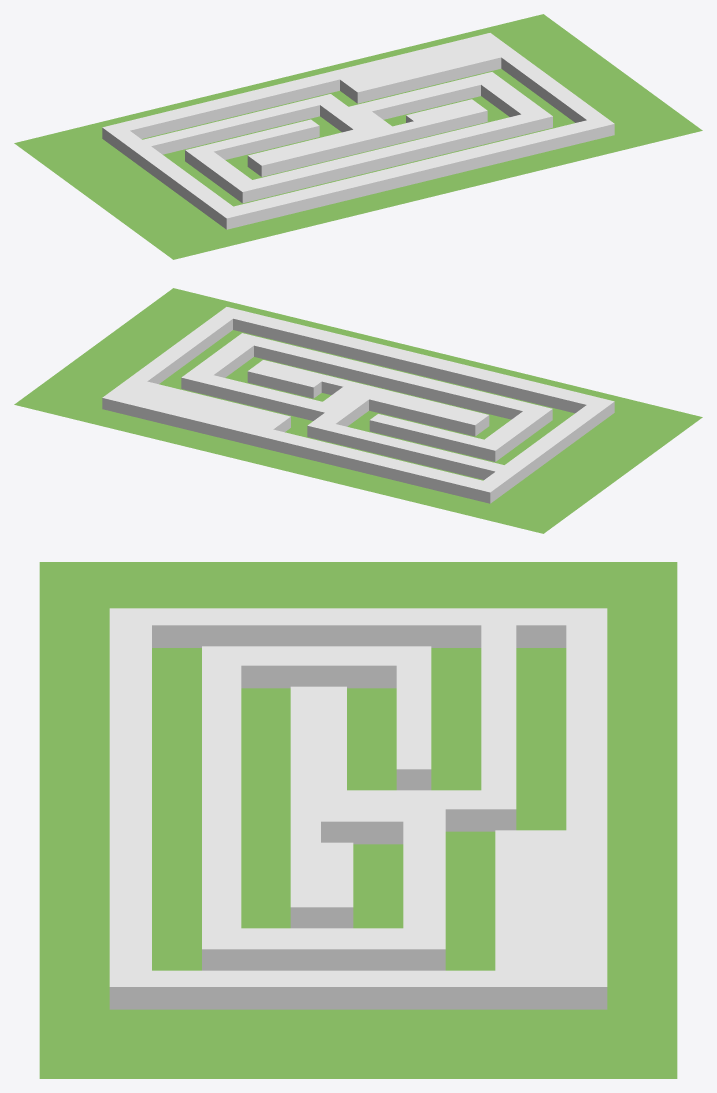
3 views of the same model, one above another, from view 1: azimuth 30°, elevation 25°; view 2: azimuth 150°, elevation 25°; view 3: azimuth 270°, elevation 25° (orthographic). The views are drawn at different scales.
Parts seen in each view (by area): view 1: Rectangle001, Plane; view 2: Rectangle001, Plane; view 3: Plane, Rectangle001.
Boxes of the visible parts, x1=… form: Rectangle001: x1=102, y1=33, x2=614, y2=229; Plane: x1=14, y1=14, x2=702, y2=259; Rectangle001: x1=102, y1=307, x2=614, y2=503; Plane: x1=14, y1=288, x2=702, y2=533; Plane: x1=39, y1=562, x2=677, y2=1078; Rectangle001: x1=109, y1=608, x2=607, y2=1009.
Bounding box in the file's own units: 123 × 2.52 × 64.05.
